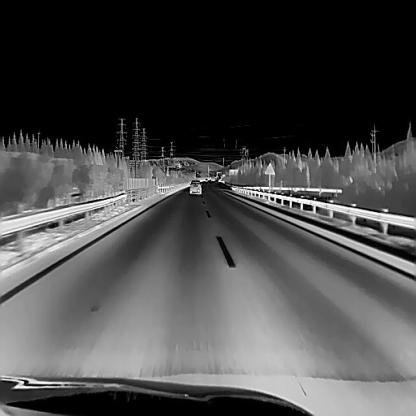car: (189, 179, 201, 193)
